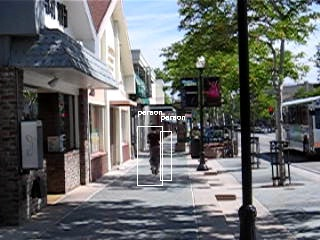person: (147, 125, 164, 176), (146, 125, 163, 176), (148, 125, 165, 176), (147, 124, 164, 175), (147, 126, 164, 177)
target_negative: (44, 104, 277, 127), (172, 40, 202, 162), (111, 180, 175, 219), (221, 229, 306, 240), (306, 12, 312, 157), (303, 104, 307, 125)
